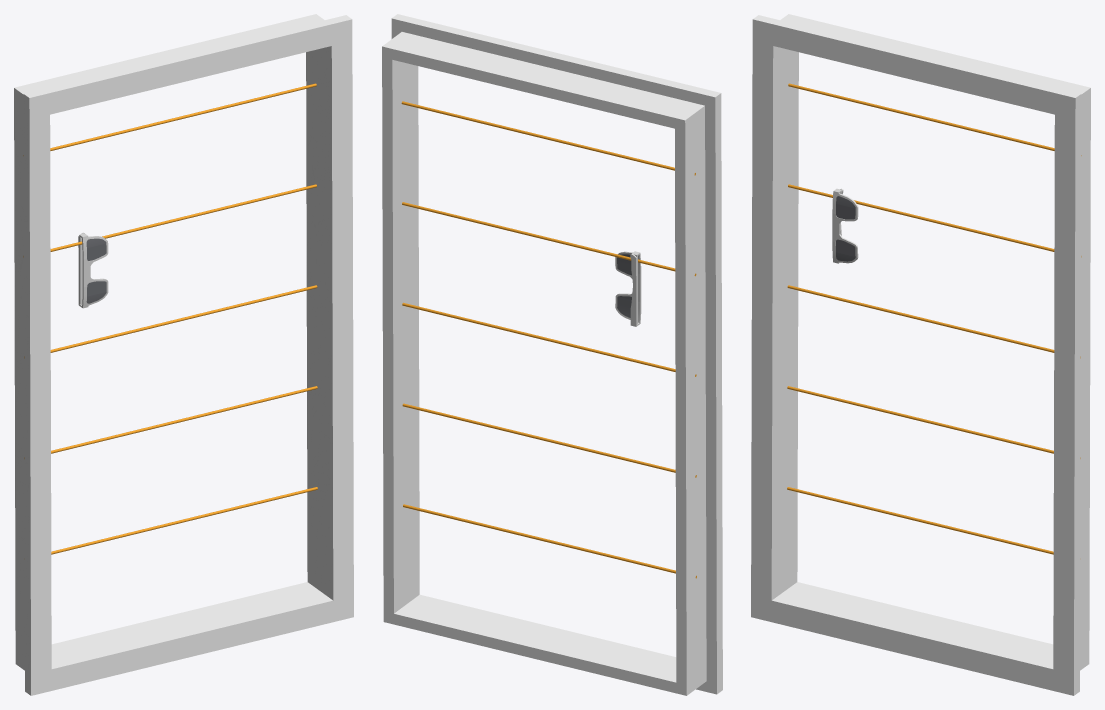
File: sunglass-.glb
3 renders of one model, left to right at view 1: azimuth 30°, elevation 25°; view 2: azimuth 150°, elevation 25°; view 3: azimuth 330°, elevation 25°, orthographic.
Visible parts, largest first — view 1: Face Frame - left, Face Frame - right, Right, Face Frame - top, Face Frame - bottom, Left, Bottom, Top, Sunglasses, Dowel - 3, Dowel - 4, Dowel - 1 (+2 smaller); view 2: Left, Right, Face Frame - left, Top, Bottom, Face Frame - top, Face Frame - right, Face Frame - bottom, Dowel - 4, Dowel - 1, Dowel - 3, Dowel - 5 (+2 smaller); view 3: Face Frame - right, Face Frame - left, Left, Face Frame - top, Face Frame - bottom, Right, Bottom, Top, Dowel - 3, Dowel - 4, Dowel - 1, Dowel - 5 (+2 smaller).
Part boxes in pixels (x1=…): Face Frame - left: x1=23, y1=94, x2=51, y2=695; Face Frame - right: x1=326, y1=20, x2=353, y2=616; Right: x1=306, y1=14, x2=327, y2=595; Face Frame - top: x1=24, y1=15, x2=351, y2=114; Face Frame - bottom: x1=31, y1=596, x2=353, y2=695; Left: x1=14, y1=85, x2=31, y2=669; Bottom: x1=17, y1=582, x2=326, y2=670; Top: x1=16, y1=15, x2=324, y2=104; Sunglasses: x1=78, y1=232, x2=108, y2=308; Dowel - 3: x1=24, y1=285, x2=317, y2=358; Dowel - 4: x1=24, y1=386, x2=317, y2=458; Dowel - 1: x1=23, y1=83, x2=316, y2=155; Left: x1=674, y1=103, x2=706, y2=695; Right: x1=382, y1=32, x2=413, y2=624; Face Frame - left: x1=705, y1=93, x2=722, y2=694; Top: x1=384, y1=34, x2=701, y2=129; Bottom: x1=394, y1=599, x2=703, y2=693; Face Frame - top: x1=392, y1=14, x2=720, y2=105; Face Frame - right: x1=391, y1=19, x2=419, y2=598; Face Frame - bottom: x1=414, y1=594, x2=716, y2=694; Dowel - 4: x1=402, y1=403, x2=696, y2=477; Dowel - 1: x1=401, y1=101, x2=695, y2=175; Dowel - 3: x1=402, y1=302, x2=696, y2=376; Dowel - 5: x1=403, y1=504, x2=696, y2=578; Face Frame - right: x1=1053, y1=94, x2=1081, y2=695; Face Frame - left: x1=751, y1=20, x2=778, y2=616; Left: x1=777, y1=14, x2=798, y2=595; Face Frame - top: x1=753, y1=15, x2=1080, y2=114; Face Frame - bottom: x1=751, y1=596, x2=1073, y2=695; Right: x1=1073, y1=85, x2=1090, y2=669; Bottom: x1=778, y1=582, x2=1087, y2=670; Top: x1=780, y1=15, x2=1088, y2=104; Dowel - 3: x1=787, y1=285, x2=1080, y2=358; Dowel - 4: x1=787, y1=386, x2=1080, y2=458; Dowel - 1: x1=788, y1=83, x2=1081, y2=155; Dowel - 5: x1=787, y1=487, x2=1053, y2=554.
Bounding box in the file's own units: 59.69 × 105 × 8.77.
